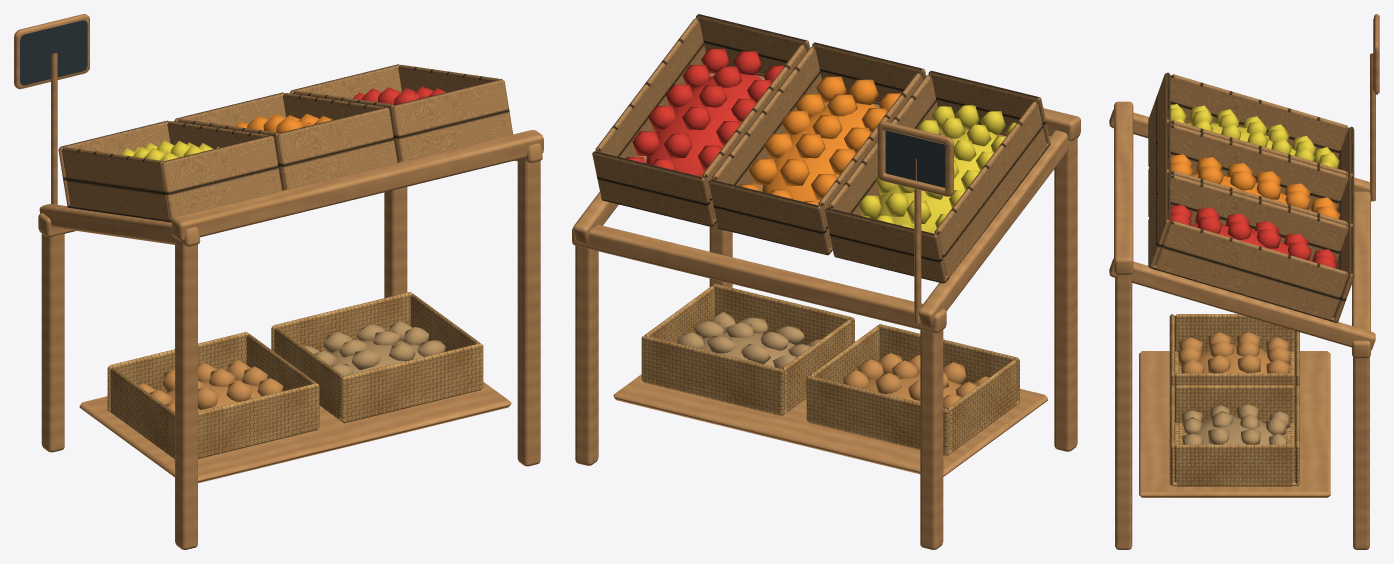
Rendered from produce_T1.fbx.
3 views of the same model, side by side, from view 1: azimuth 30°, elevation 25°; view 2: azimuth 150°, elevation 25°; view 3: azimuth 270°, elevation 25° (orthographic). The views are drawn at different scales.
Visible parts, largest first — view 1: Body, Anim Fill 0, Anim Fill 3, Anim Fill 2; view 2: Body, Anim Fill 0, Anim Fill 3, Anim Fill 2; view 3: Body, Anim Fill 3, Anim Fill 0, Anim Fill 2.
Part boxes in pixels (bbox=[...]): Body: bbox=[14, 14, 543, 549]; Anim Fill 0: bbox=[304, 86, 446, 376]; Anim Fill 3: bbox=[113, 140, 283, 411]; Anim Fill 2: bbox=[235, 113, 332, 133]; Body: bbox=[572, 14, 1080, 549]; Anim Fill 0: bbox=[626, 49, 820, 368]; Anim Fill 3: bbox=[843, 105, 1016, 408]; Anim Fill 2: bbox=[739, 76, 900, 205]; Body: bbox=[1109, 14, 1379, 549]; Anim Fill 3: bbox=[1170, 104, 1339, 373]; Anim Fill 0: bbox=[1170, 205, 1337, 444]; Anim Fill 2: bbox=[1170, 154, 1340, 218].
Size of the model in its own units: 1.03 by 1.08 by 0.704.
